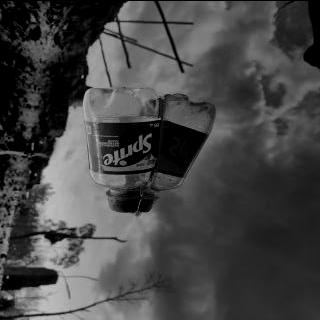bottle: (78, 84, 164, 215)
